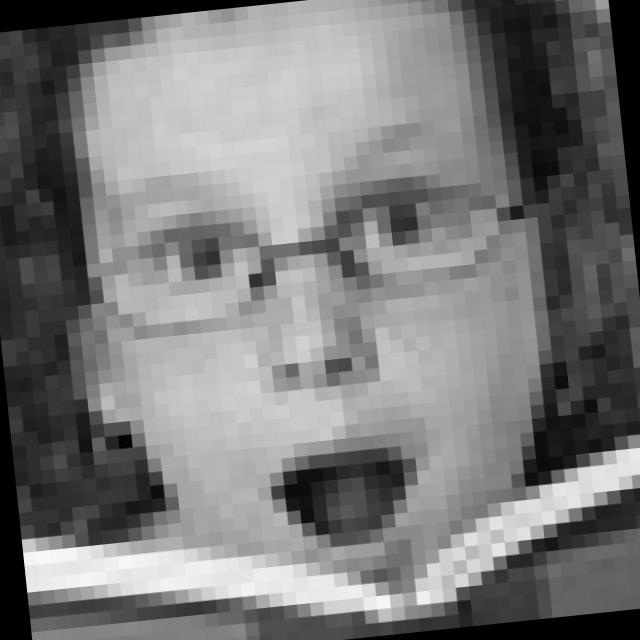surprise: (94, 105, 549, 600)
